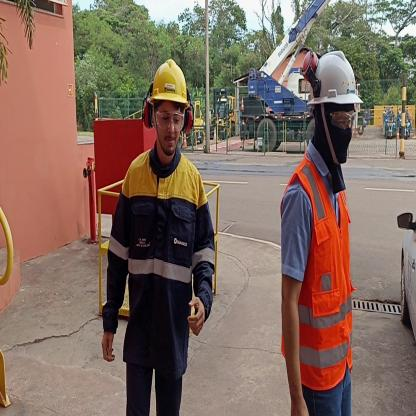Balaclava: (312, 105, 356, 174)
C_eletrica: (102, 154, 222, 356)
Capacete: (302, 46, 364, 104), (146, 54, 192, 104)
colete: (282, 161, 364, 381)
